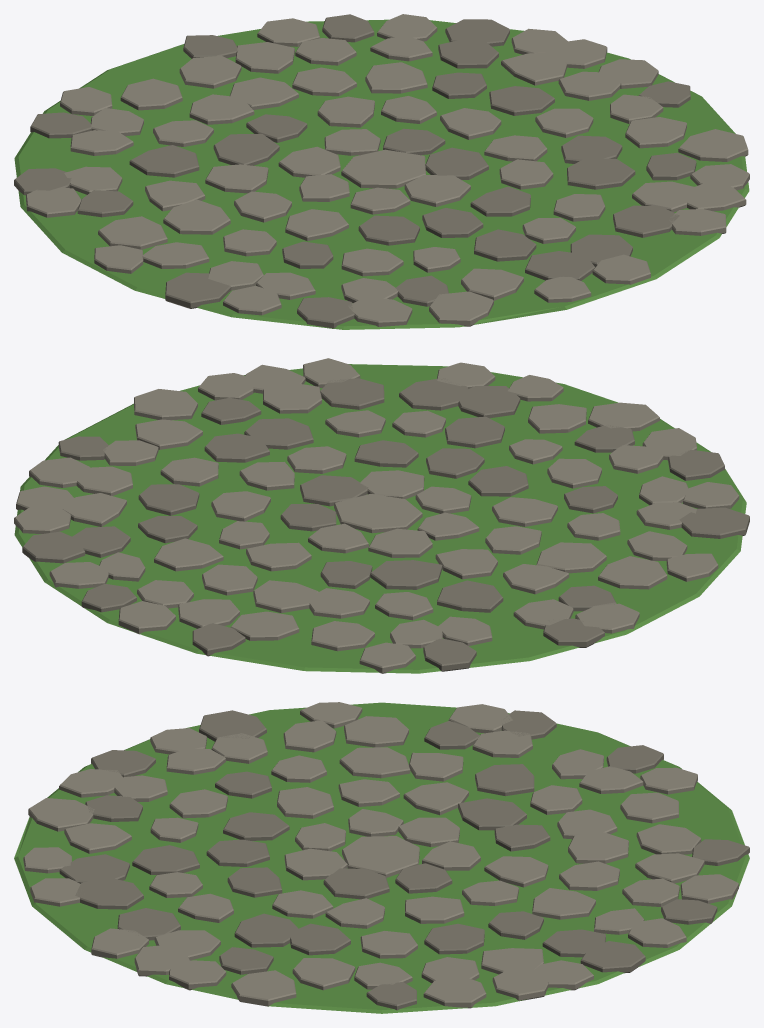
Rendered from waystone-flagstones.glb.
3 renders of one model, top to bottom at view 1: azimuth 30°, elevation 25°; view 2: azimuth 150°, elevation 25°; view 3: azimuth 270°, elevation 25°, orthographic.
Visible parts, largest first — view 1: Body_Stone, Body_Plant, Body_StoneDark; view 2: Body_Stone, Body_Plant, Body_StoneDark; view 3: Body_Stone, Body_Plant, Body_StoneDark.
Part boxes in pixels (x1,y1,x2,y2): Body_Stone: (26, 14, 749, 326); Body_Plant: (14, 19, 749, 329); Body_StoneDark: (14, 14, 696, 328); Body_Stone: (14, 358, 739, 673); Body_Plant: (14, 364, 746, 673); Body_StoneDark: (22, 378, 749, 671); Body_Stone: (23, 702, 738, 1008); Body_Plant: (14, 702, 749, 1013); Body_StoneDark: (59, 710, 749, 1010).
Size of the model in its own units: 9 by 0.1 by 9.
